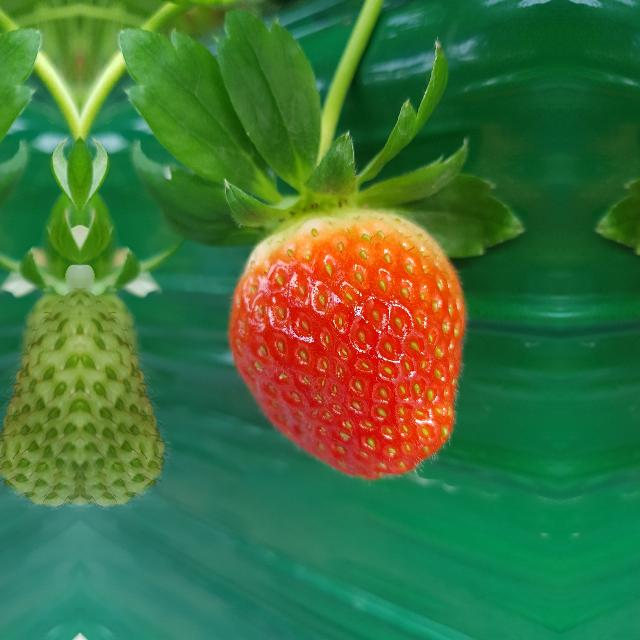Health_100: (224, 208, 466, 480)
Health_50: (80, 272, 168, 504), (0, 271, 80, 504)
